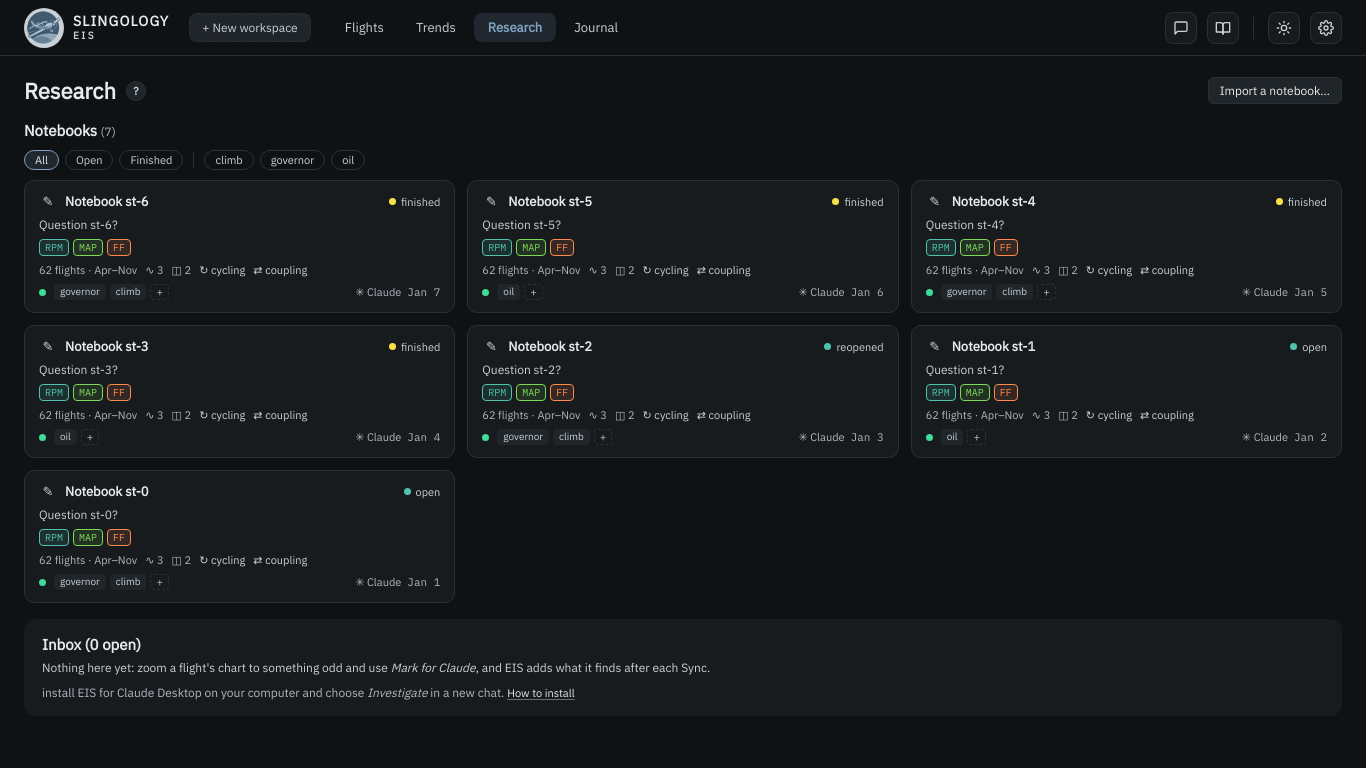
Test: Research home (Spec 03 v0.34) › above six notebooks a filter row: All · Open · Finished and the tags present
What coordinates should you click on to do the following:
click the button with test id "notebook-filter-open"
I would click on:
 (89, 160)
Its box is [65,150,114,170].
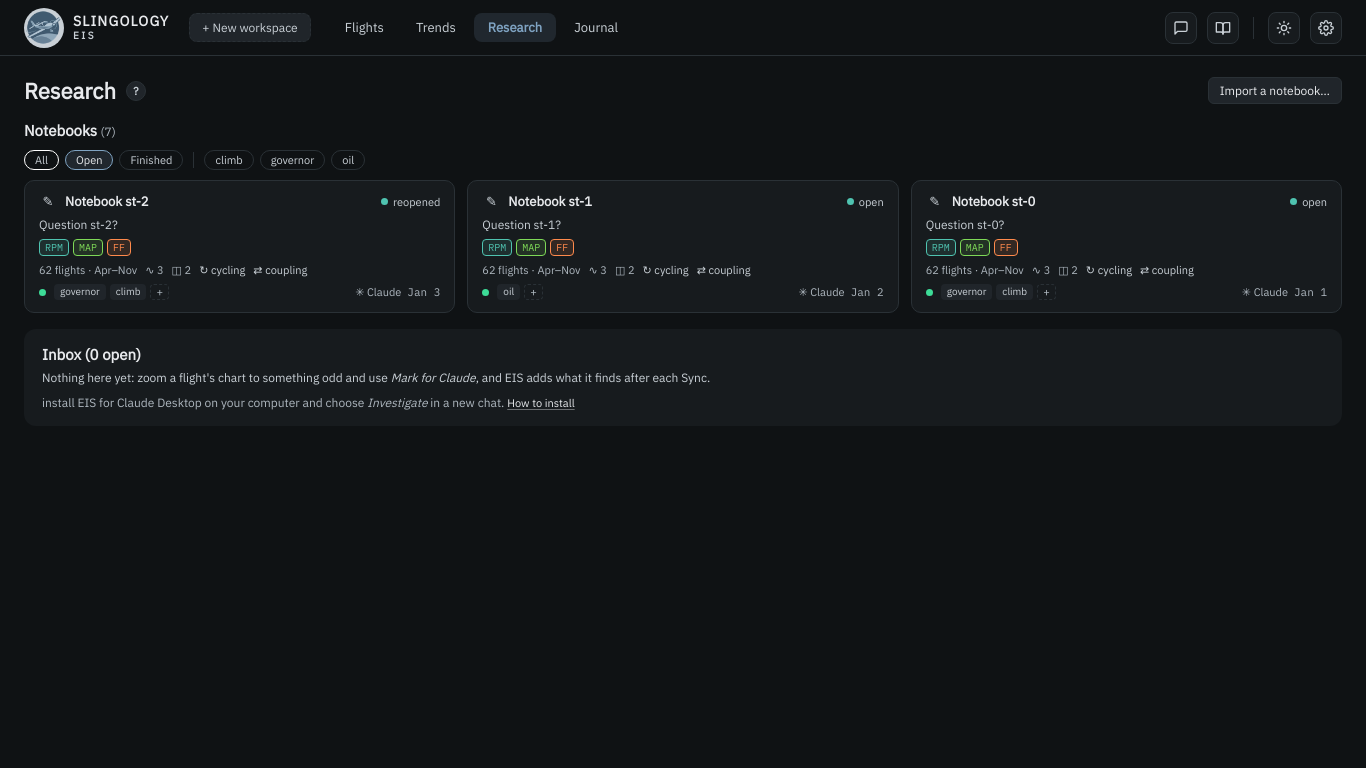
What coordinates should you click on to do the following:
click the button with test id "notebook-filter-finished"
I would click on:
 (151, 160)
Its box is [120,150,183,170].
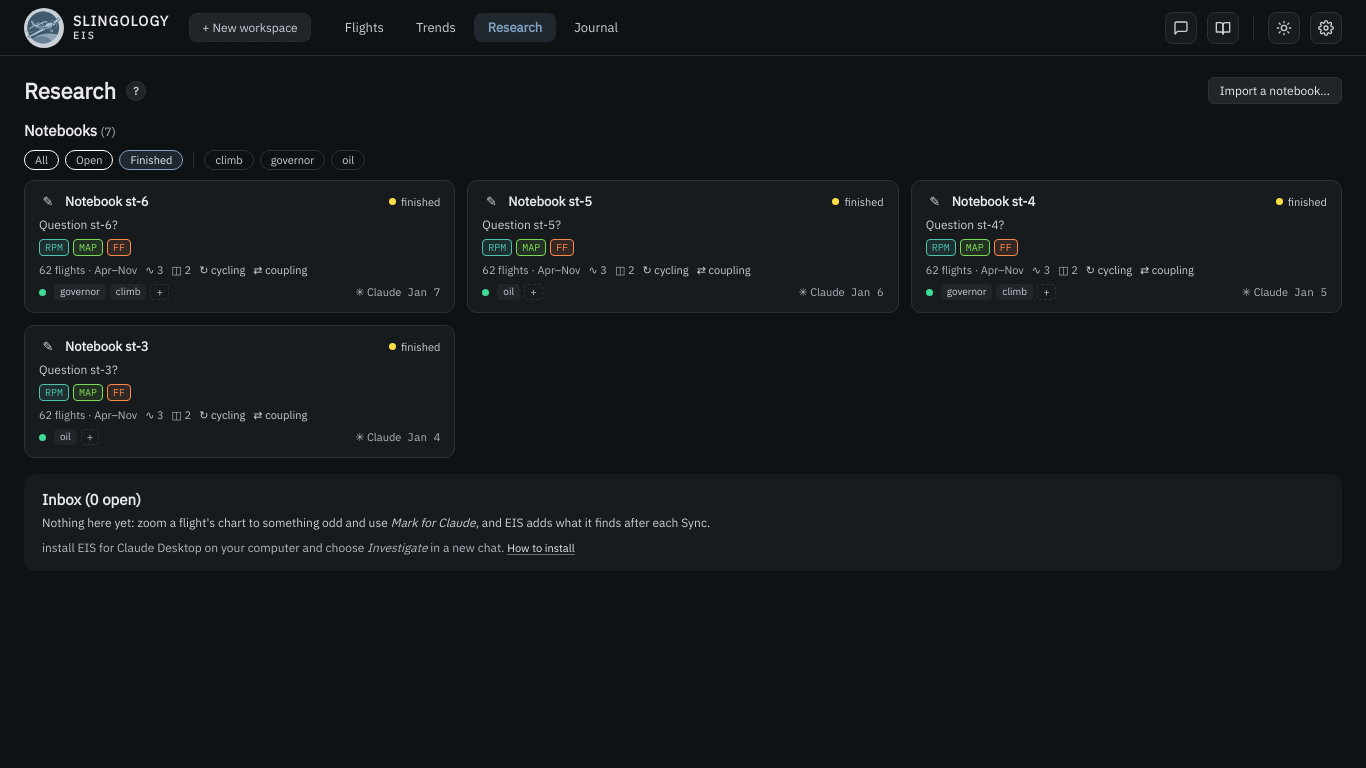
Check: the number of elements with test id "notebook-card" is 4, box [24,180,455,313]; [467,180,899,313]; [911,180,1342,313]; [24,325,455,458]
What coordinates should you click on to do the following:
click the 3rd button with test id "notebook-filter-tag"
I would click on:
 (348, 160)
Its box is [331,150,365,170].
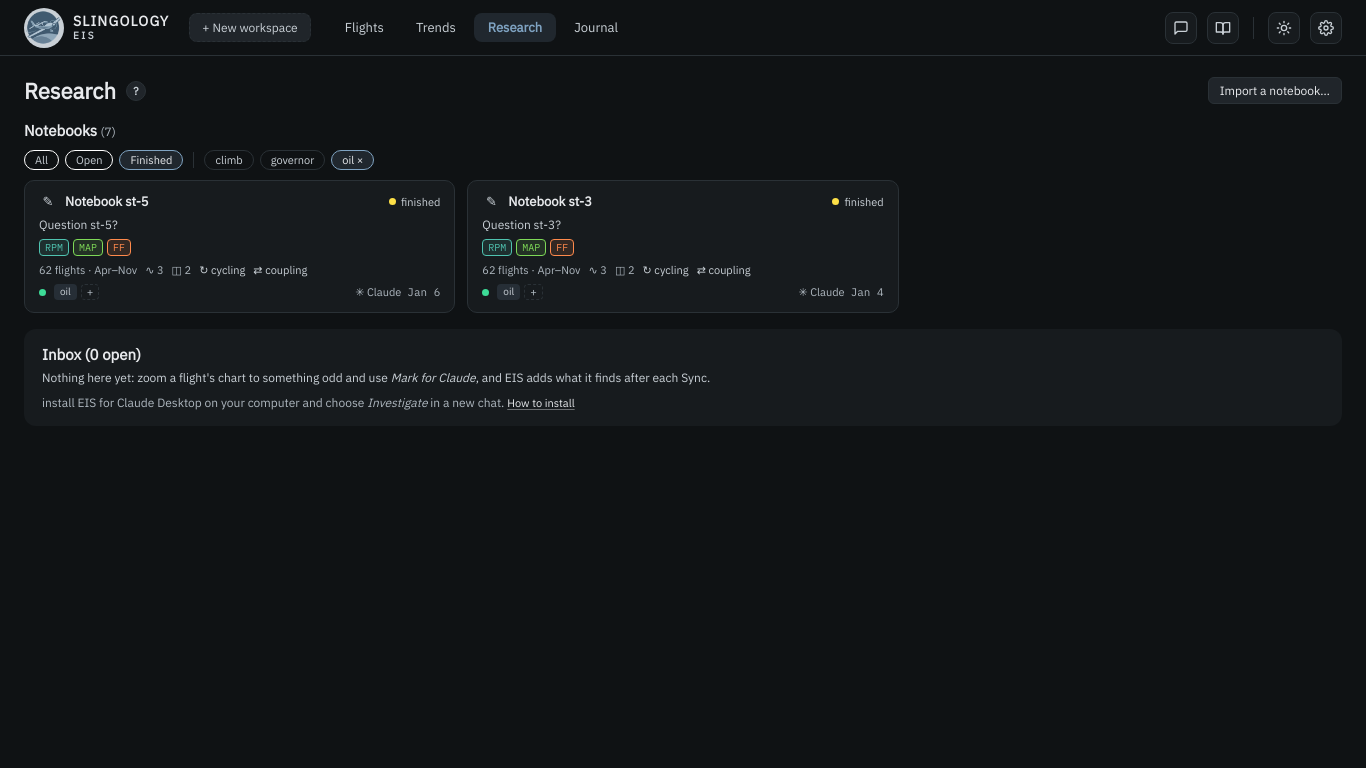
What coordinates should you click on to do the following:
click the button with test id "notebook-filter-all"
I would click on:
 (42, 160)
Its box is [24,150,59,170].
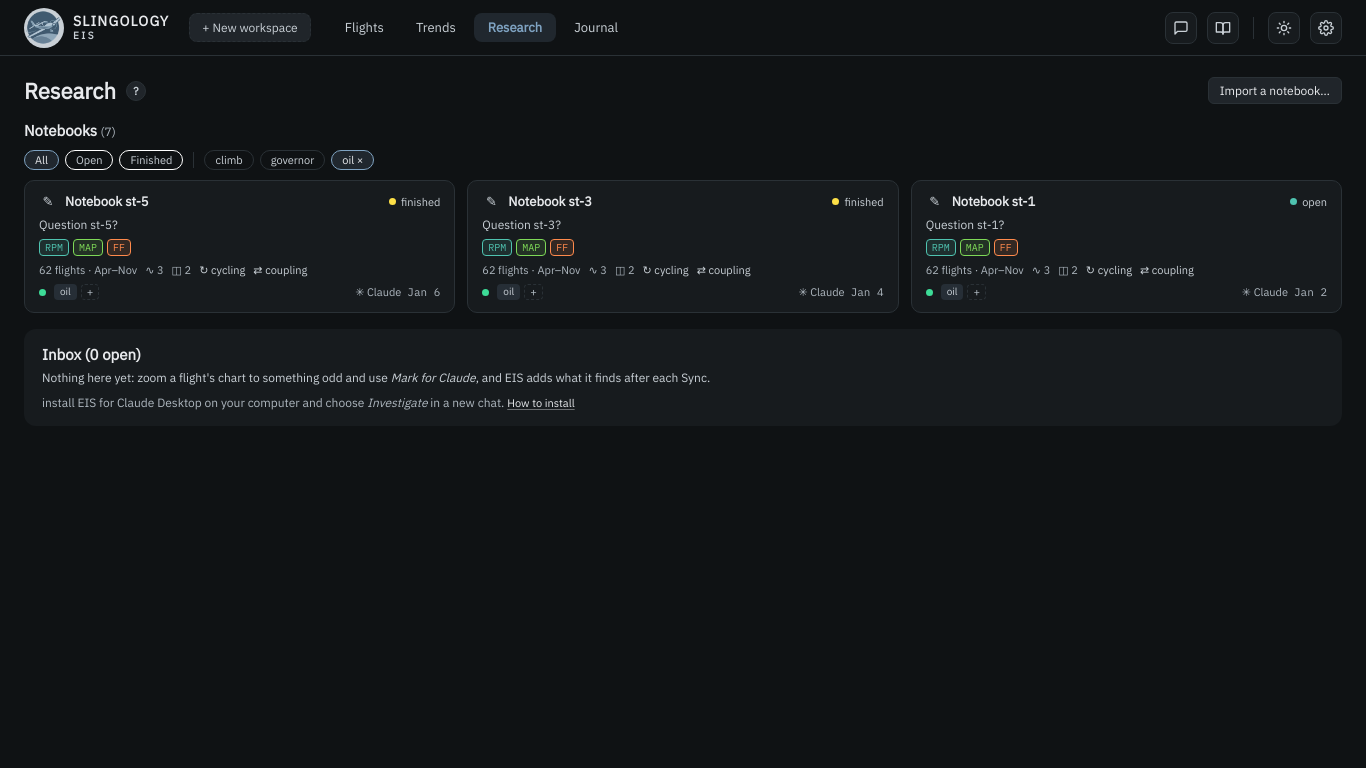
Check: the number of elements with test id "notebook-card" is 3, box [24,180,455,313]; [467,180,899,313]; [911,180,1342,313]
